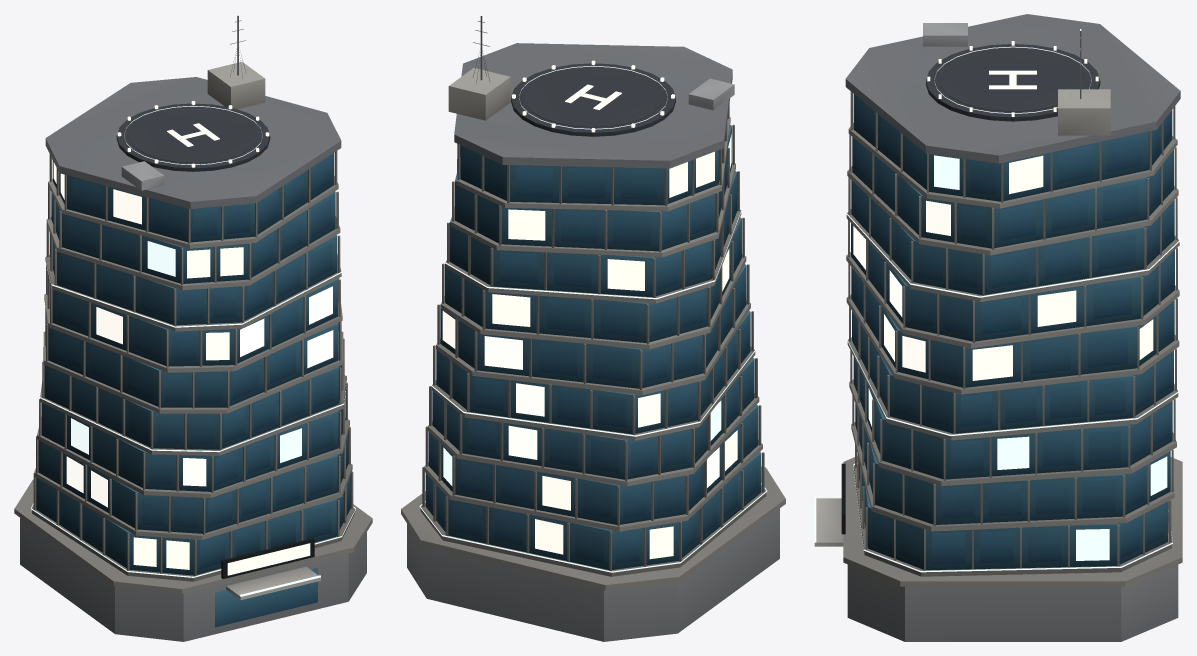
File: torre_vidrio_b.glb
3 renders of one model, left to right at view 1: azimuth 30°, elevation 25°; view 2: azimuth 150°, elevation 25°; view 3: azimuth 270°, elevation 25°, orthographic. The views are drawn at different scales.
Parts seen in each view (by area): view 1: torre_vidrio_b; view 2: torre_vidrio_b; view 3: torre_vidrio_b.
Part boxes in pixels (left/top/right/bottom): torre_vidrio_b: left=14, top=14, right=372, bottom=641; torre_vidrio_b: left=401, top=14, right=785, bottom=641; torre_vidrio_b: left=814, top=14, right=1182, bottom=641.
Bounding box in the file's own units: 22.6 × 42.9 × 24.54.
